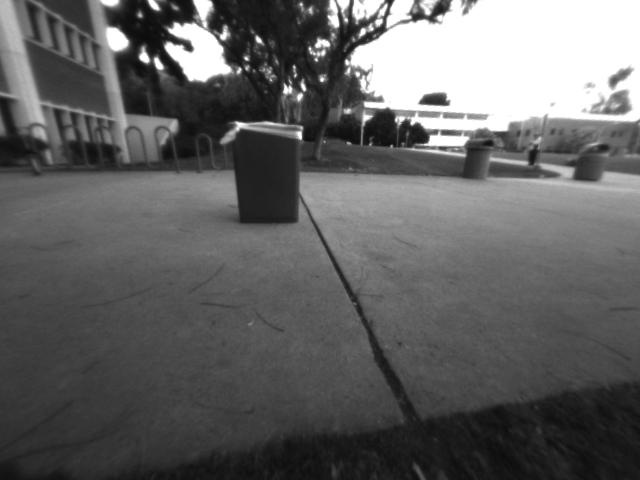trashcan_open: (230, 119, 304, 225)
